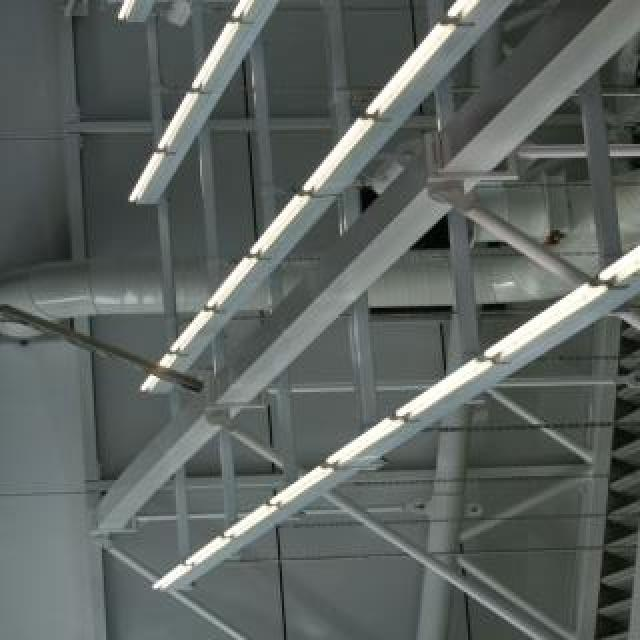fluorescent tube: (471, 258, 625, 369), (327, 9, 475, 124), (277, 94, 415, 211), (383, 329, 525, 433), (172, 0, 282, 100), (227, 189, 331, 275), (305, 396, 420, 473), (178, 245, 282, 323), (586, 162, 640, 298), (143, 75, 221, 169), (143, 293, 225, 358), (422, 0, 612, 28), (194, 0, 330, 38), (243, 467, 345, 513), (118, 344, 189, 404), (113, 138, 175, 206), (215, 491, 285, 551), (131, 558, 191, 613), (173, 531, 255, 567), (100, 0, 166, 28)
